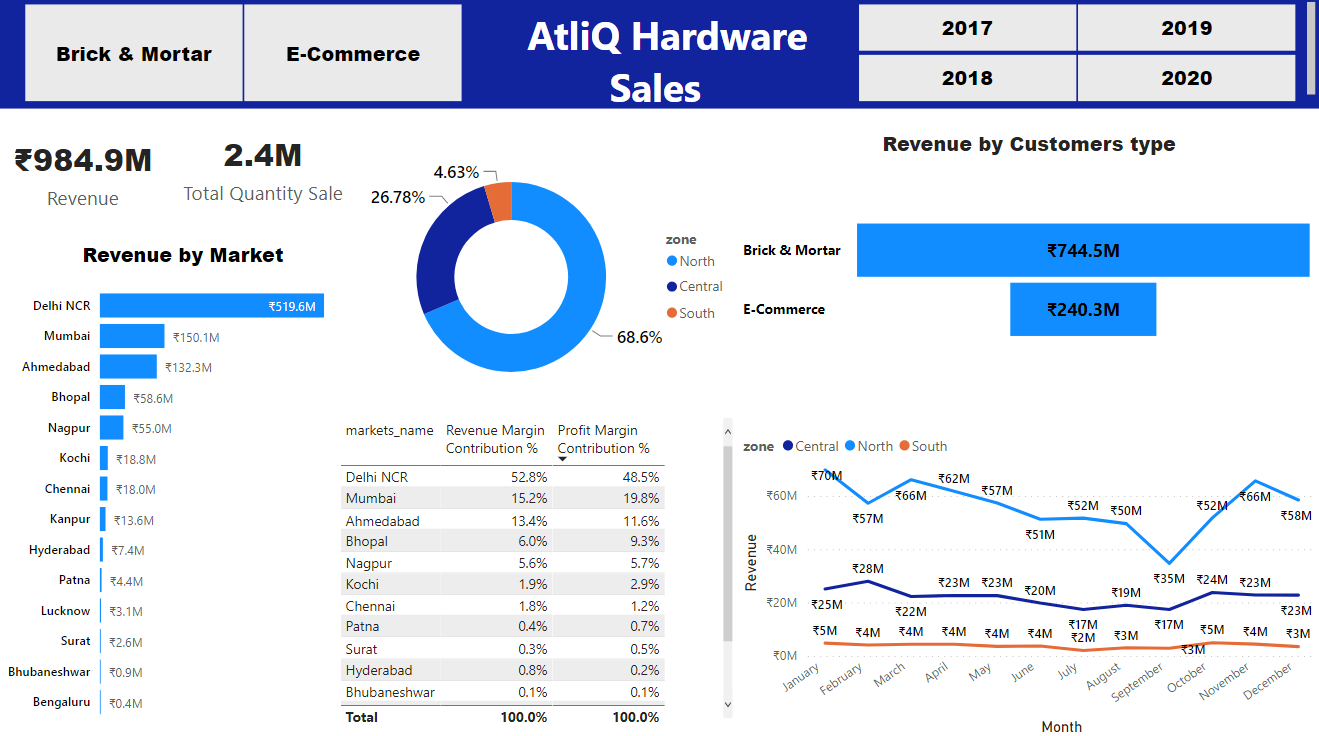

The page's visual inventory and layout, read from the dashboard file:
{"tool":"powerbi","page":{"name":"Margin Insgihts","canvas":[1280,720],"ordinal":2},"visuals":[{"type":"card","fields":{"Values":["Base Measurement.Total Quantity Sale"]},"box":[10.9,10.9,223.9,194.8],"z":0},{"type":"card","fields":{"Values":["Base Measurement.Total Sale"]},"box":[245.6,10.9,256.5,194.8],"z":1000},{"type":"barChart","title":"Profit Margin Contribution %","fields":{"Category":["sales markets.markets_name"],"Y":["Base Measurement.Profit Margin Contribution %"]},"box":[10.9,226.3,223.9,478],"z":2000},{"type":"slicer","fields":{"Values":["sales date.year"]},"box":[769.6,10.9,496.1,194.8],"z":3000},{"type":"card","fields":{"Values":["Base Measurement.Total Profit Margin"]},"box":[510.7,10.9,234.8,194.8],"z":4000},{"type":"barChart","title":"% Profit Margin by Market","fields":{"Y":["Base Measurement.% Profit Margin"],"Category":["sales markets.markets_name"]},"box":[245.6,226.3,256.5,478],"z":5000},{"type":"barChart","title":"Revenue Margin Contribution %","fields":{"Category":["sales markets.markets_name"],"Y":["Base Measurement.Revenue Margin Contribution %"]},"box":[510.7,226.3,234.8,478],"z":6000},{"type":"tableEx","fields":{"Values":["sales customers.custmer_name","Base Measurement.Revenue","Base Measurement.Revenue Margin Contribution %","Base Measurement.Profit Margin Contribution %"]},"box":[769.6,226.3,510.7,478],"z":7000}]}

Visuals, with their boxes in screenshot pixels (x1, y1, x2, y2), scaled from the page's 1280x720 canvas onto the 1319x736 screenshot:
card - Base Measurement.Total Quantity Sale: <box>11,11,242,210</box>
card - Base Measurement.Total Sale: <box>253,11,517,210</box>
"Profit Margin Contribution %" barChart: <box>11,231,242,720</box>
slicer - sales date.year: <box>793,11,1304,210</box>
card - Base Measurement.Total Profit Margin: <box>526,11,768,210</box>
"% Profit Margin by Market" barChart: <box>253,231,517,720</box>
"Revenue Margin Contribution %" barChart: <box>526,231,768,720</box>
tableEx - sales customers.custmer_name x Base Measurement.Revenue: <box>793,231,1318,720</box>
